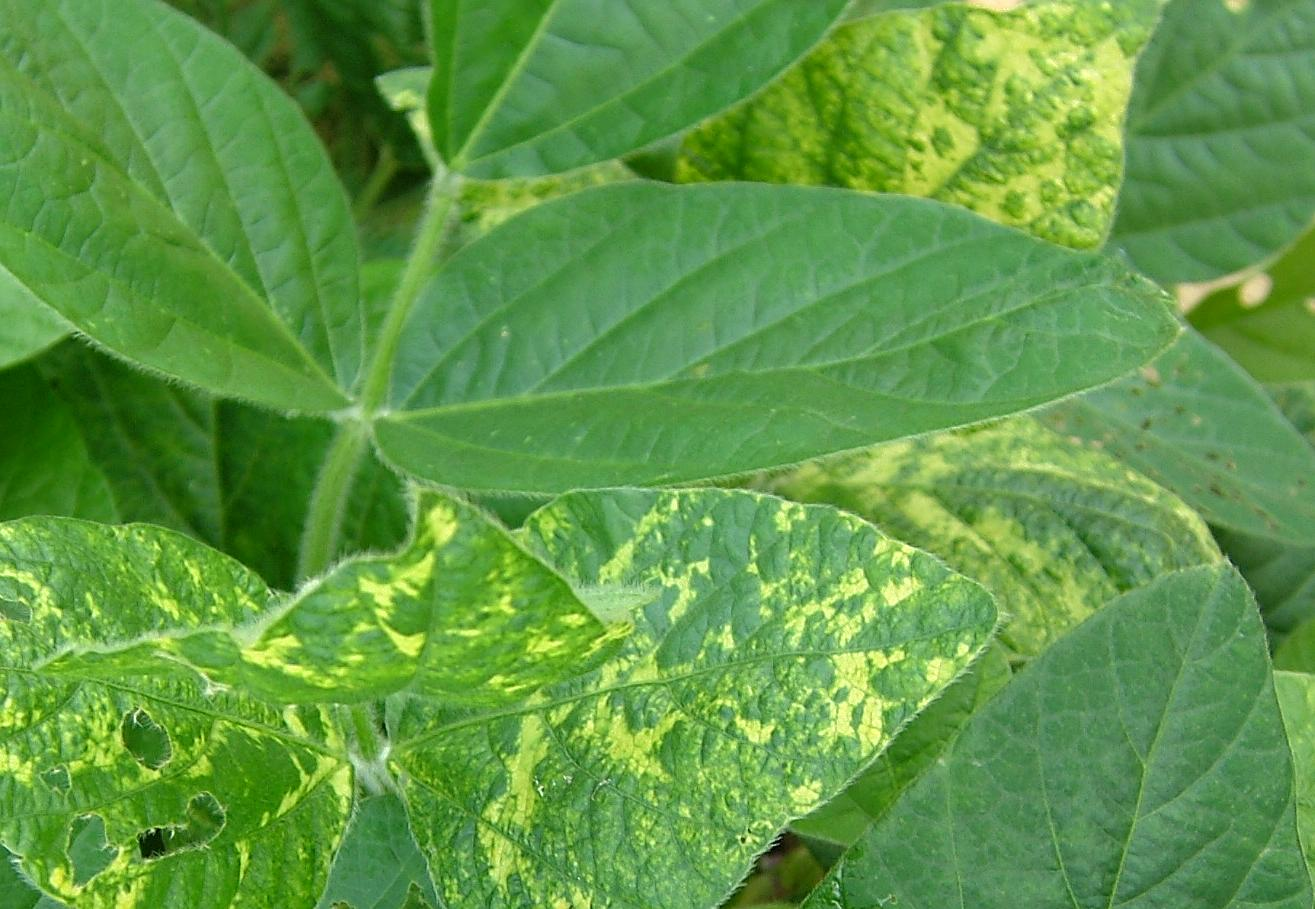Tomato leaf: (372, 169, 1151, 500)
Tomato leaf mosaic virus: (396, 510, 968, 909), (0, 490, 354, 909)
